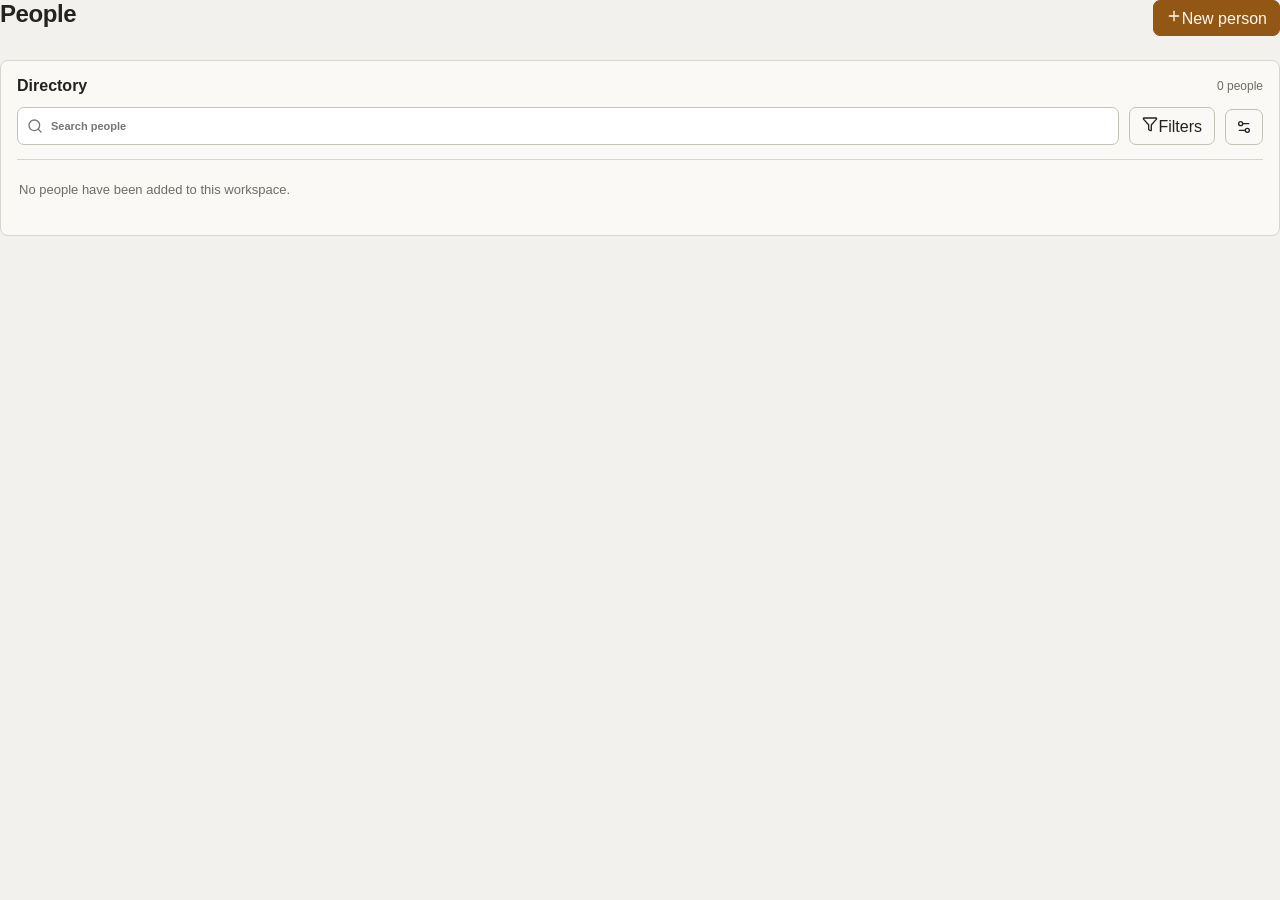
Test: People › keeps the form open when the server denies a change
The width and height of the screenshot is (1280, 900).
Expected: the text "No people have been added to this workspace." is shown, [17,159,1263,219]
Step 1. Click the button "New person" → x=1216, y=18, box [1153,0,1279,36]
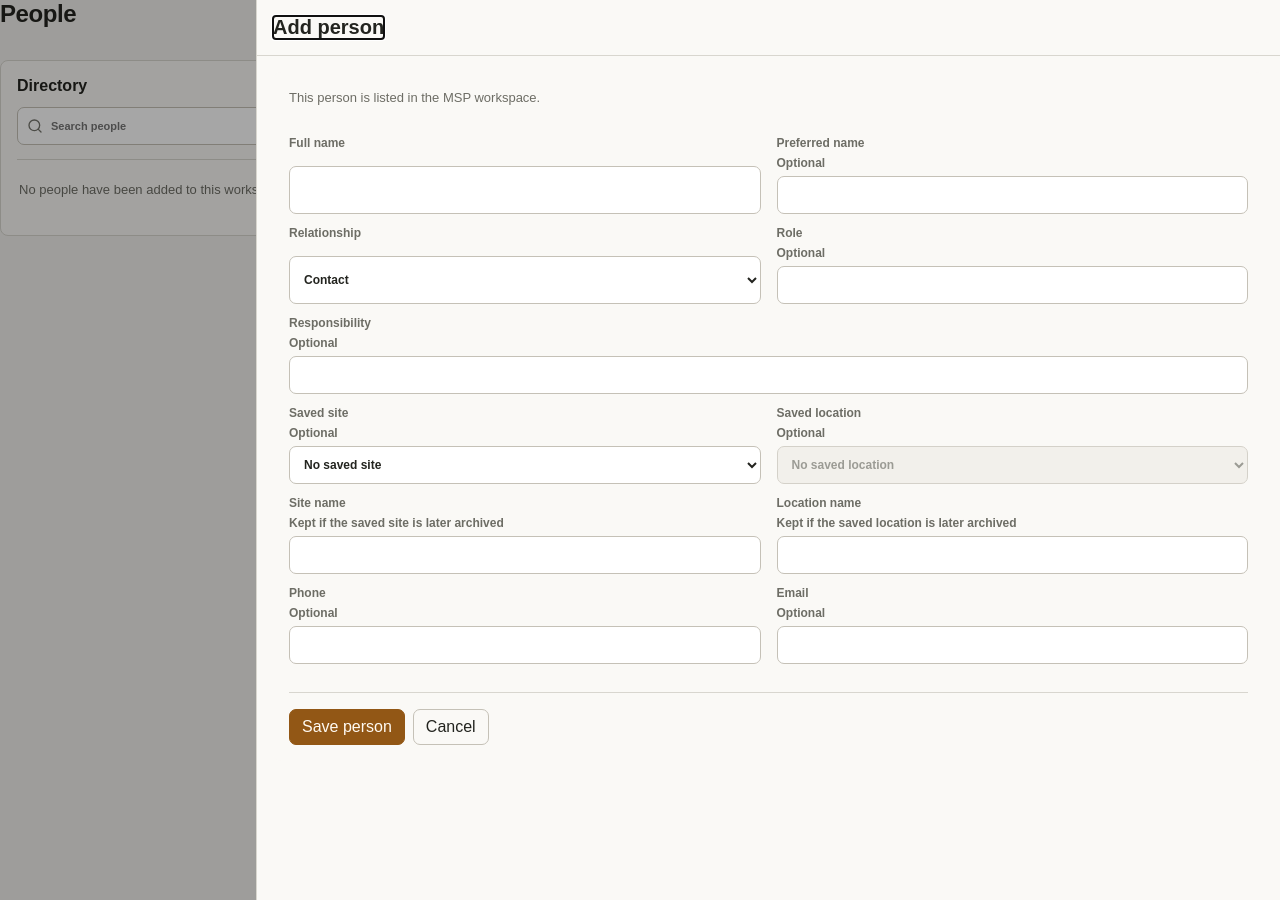
Step 2. Type "Denied Person" into the field labelled "Full name" → x=525, y=190, box [289,166,760,214]
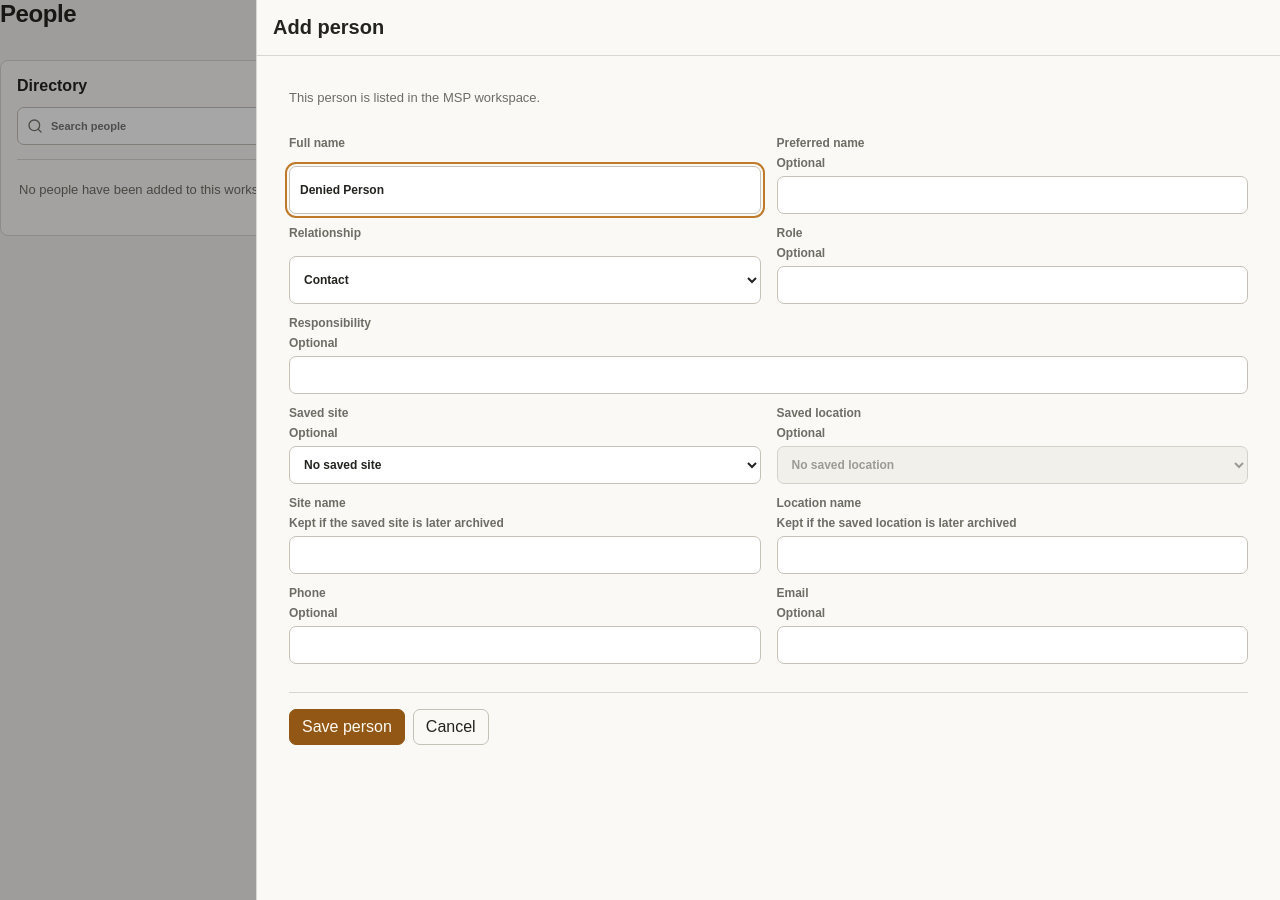
Step 3. Click the button "Save person" → x=347, y=726, box [289,708,405,744]
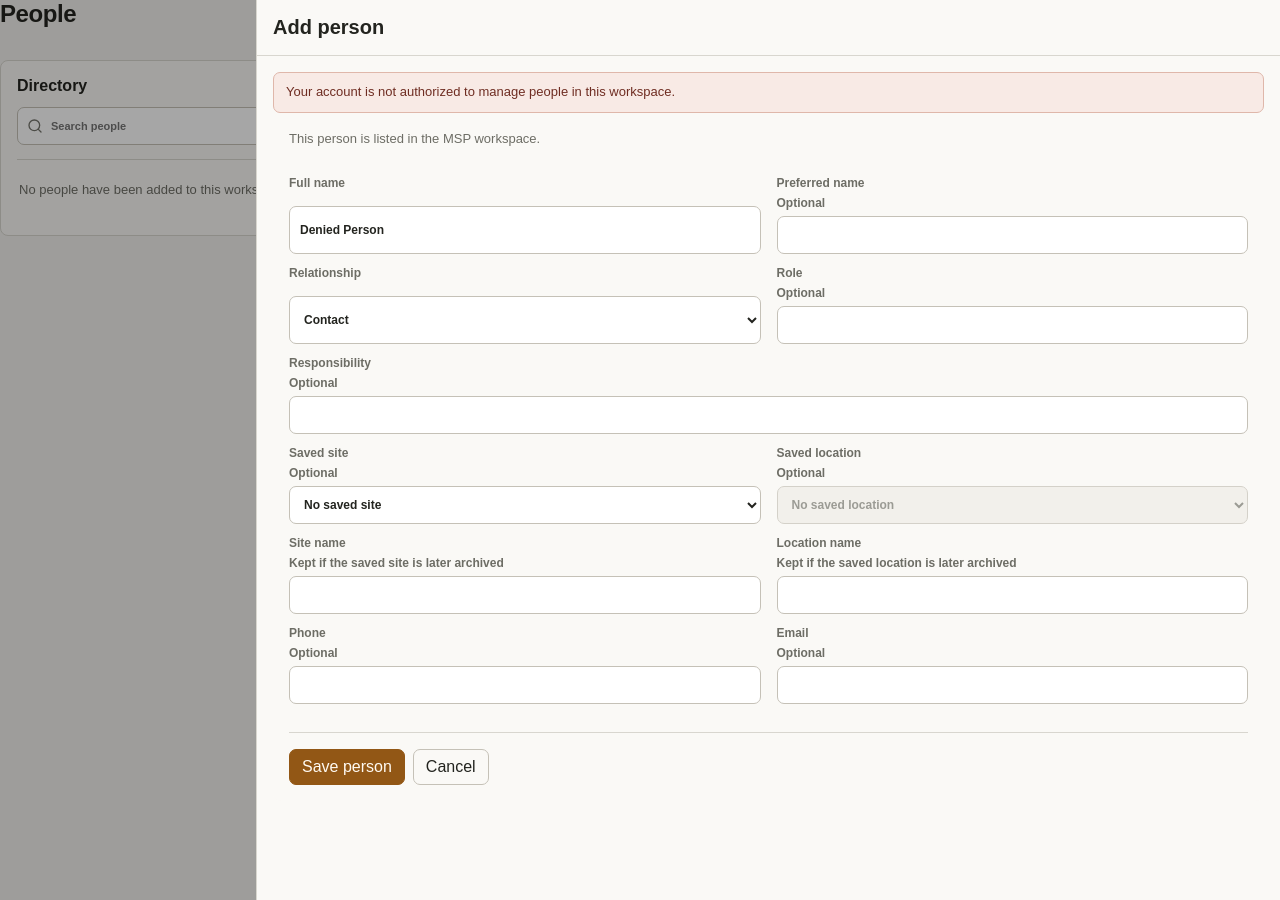
Now the message shows "not authorized", box [286,84,675,99]
